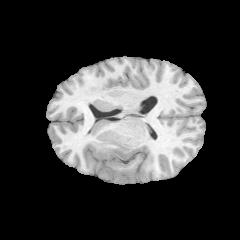glioma: (89, 146, 129, 172)
